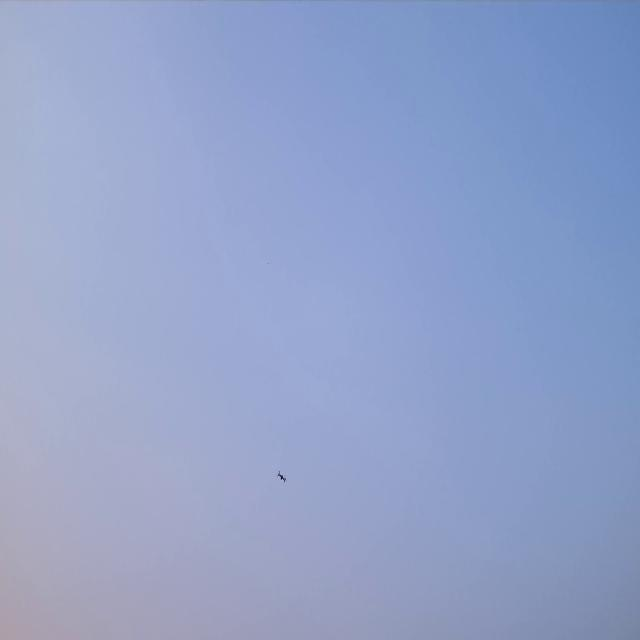UAV: (275, 468, 289, 485)
